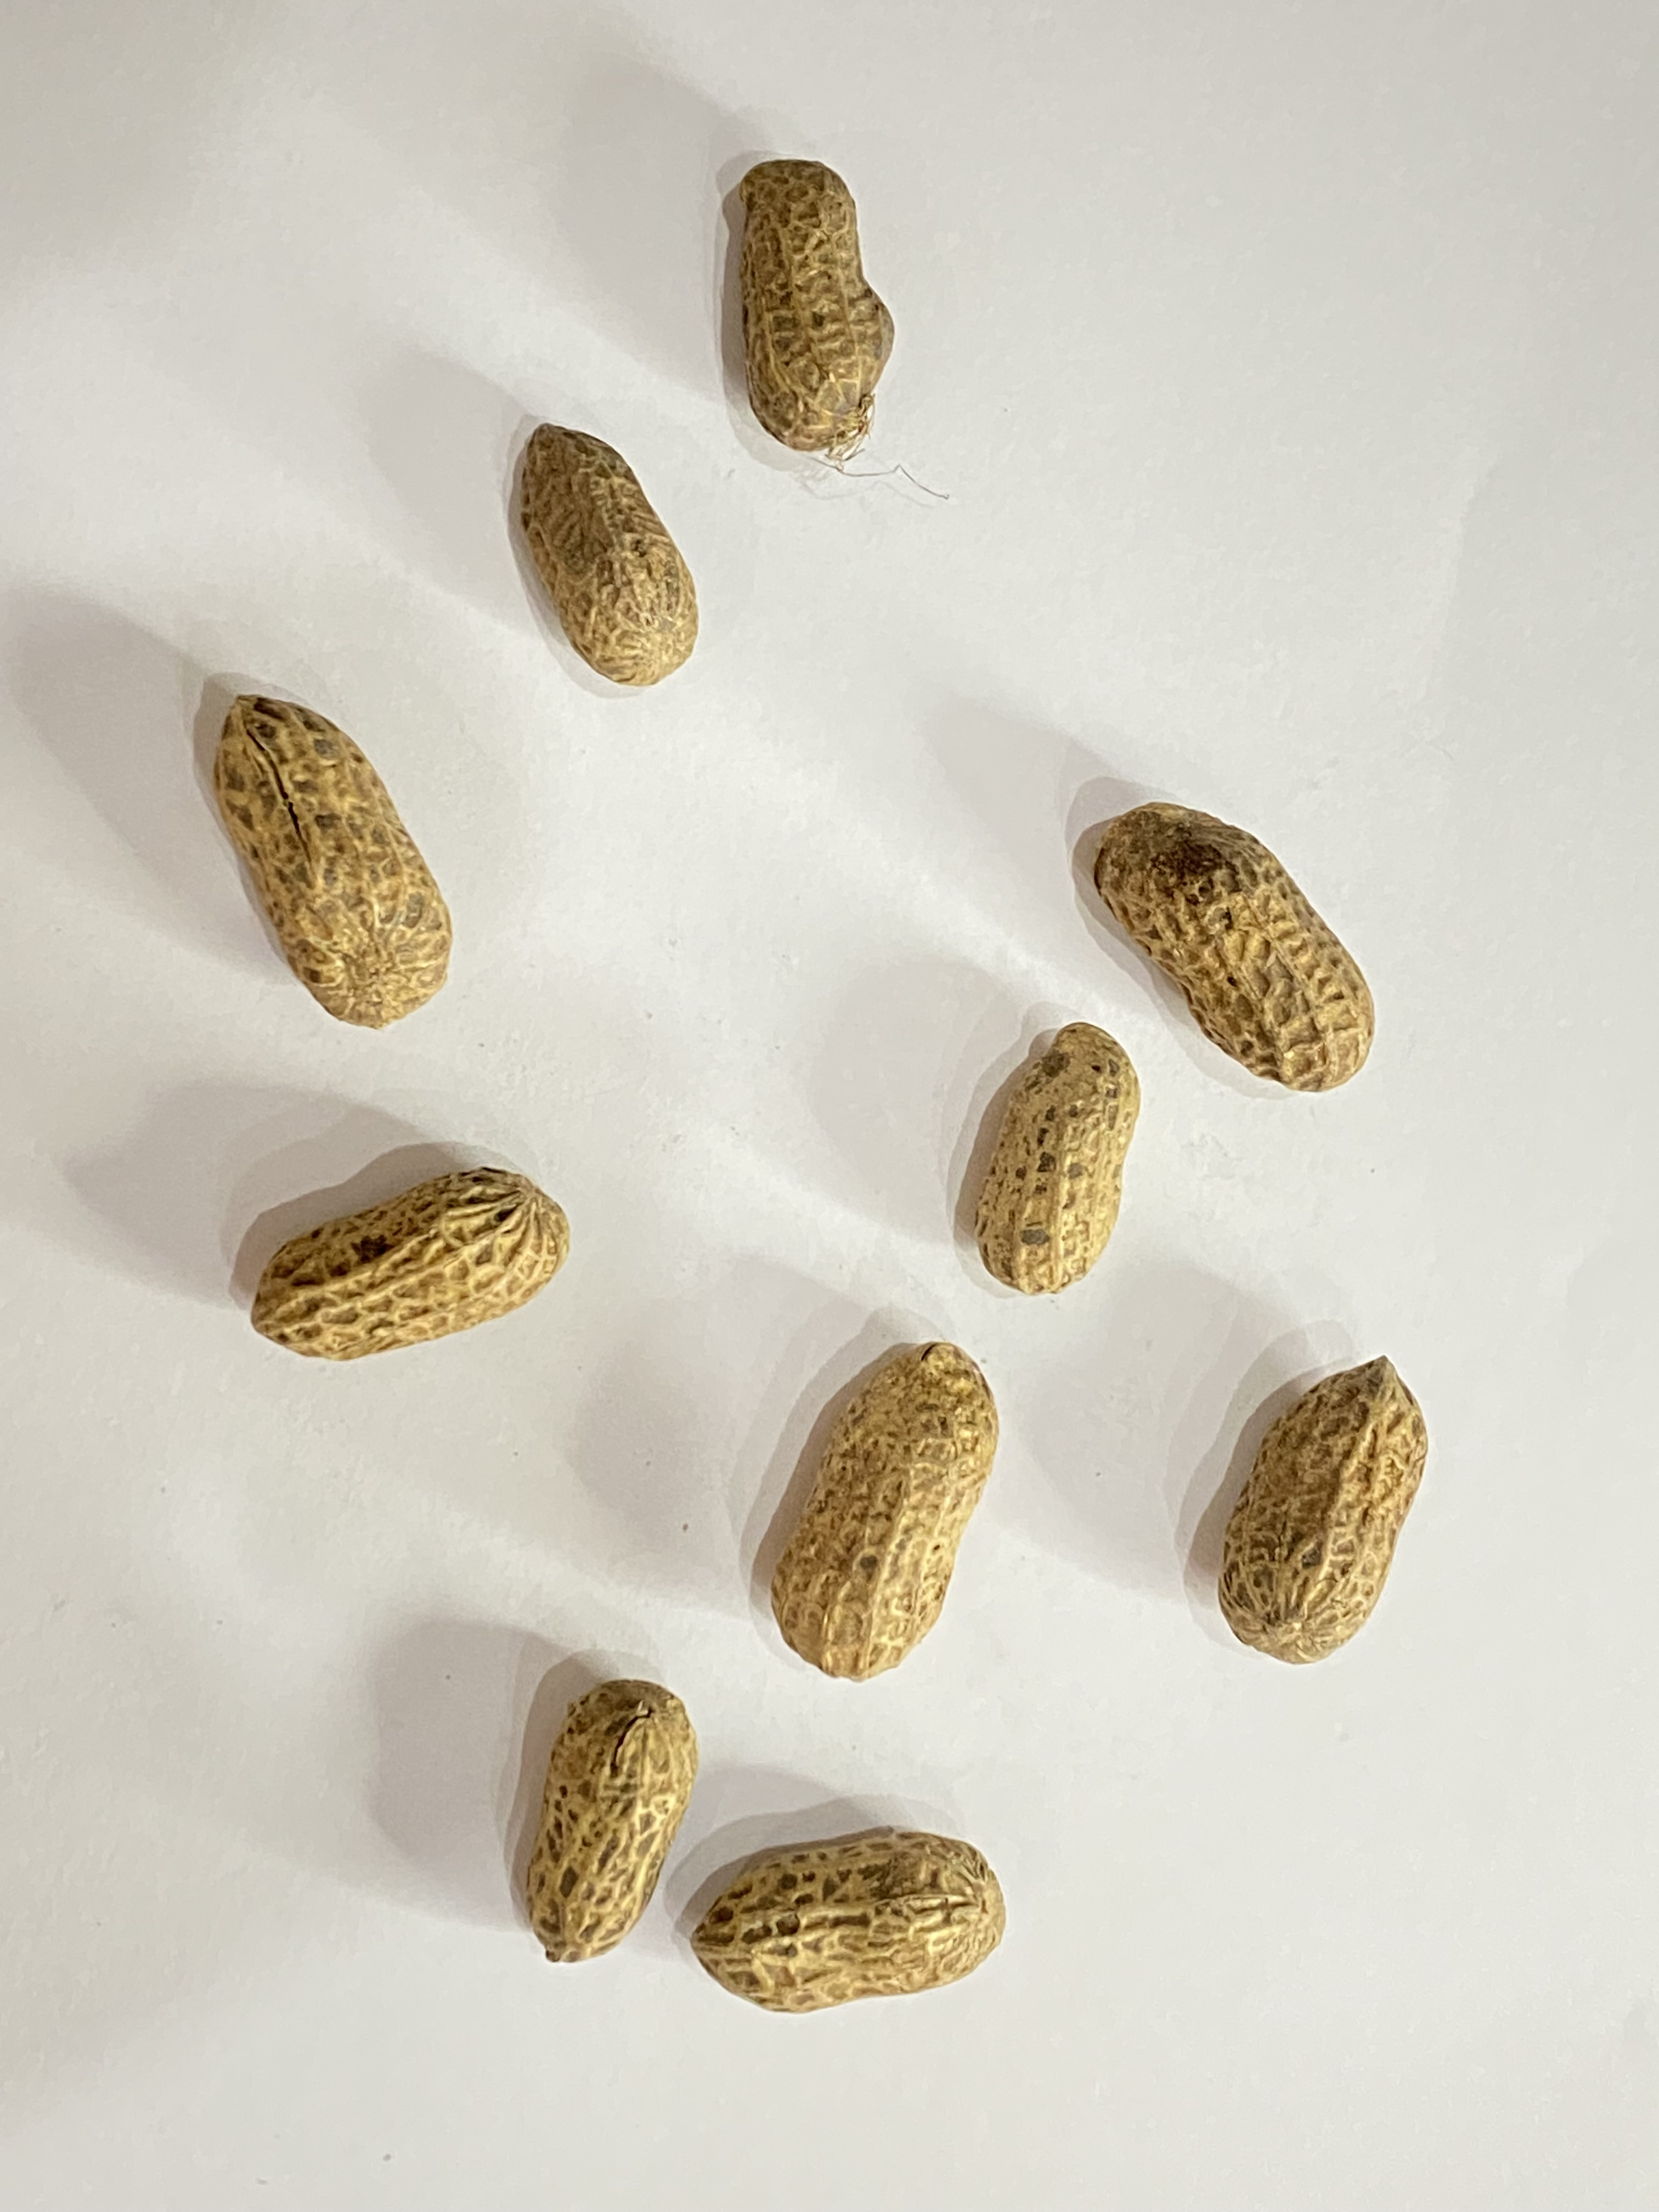kacang1: (974, 1024, 1150, 1301)
kacang2: (155, 660, 477, 1035), (1079, 763, 1445, 1092), (1208, 1305, 1466, 1669), (772, 1339, 1019, 1683), (716, 155, 955, 460), (237, 1163, 598, 1362), (694, 1817, 1019, 2026), (488, 1676, 721, 1963), (471, 420, 699, 707)
